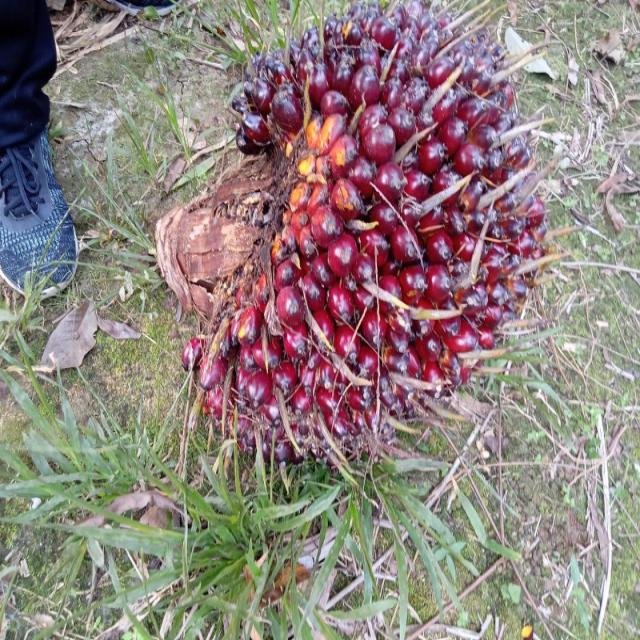fraksi 1: (140, 1, 592, 526)
